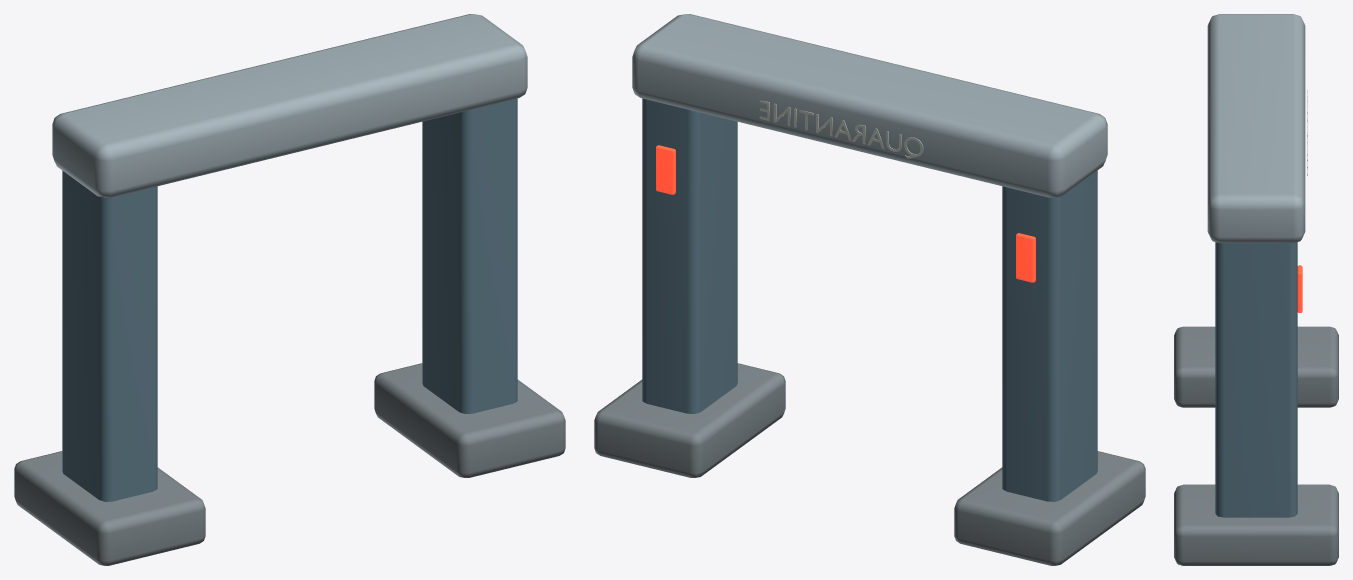
File: 32_gate_checkpoint.glb
The picture shows the model from 3 angles, left to right: view 1: azimuth 30°, elevation 25°; view 2: azimuth 150°, elevation 25°; view 3: azimuth 270°, elevation 25°; orthographic projection. The views are drawn at different scales.
Parts seen in each view (by area): view 1: Checkpoint column, Checkpoint lintel, Checkpoint foot; view 2: Checkpoint column, Checkpoint lintel, Checkpoint foot, Gate signal, Text; view 3: Checkpoint column, Checkpoint lintel, Checkpoint foot, Gate signal.
Boxes of the visible parts, <box> form: Checkpoint column: <box>62,98,517,501</box>; Checkpoint lintel: <box>52,14,527,197</box>; Checkpoint foot: <box>14,363,565,565</box>; Checkpoint column: <box>642,98,1097,501</box>; Checkpoint lintel: <box>632,14,1107,197</box>; Checkpoint foot: <box>594,363,1145,565</box>; Gate signal: <box>656,145,1035,282</box>; Text: <box>759,100,923,158</box>; Checkpoint column: <box>1215,242,1297,517</box>; Checkpoint lintel: <box>1207,14,1305,243</box>; Checkpoint foot: <box>1174,326,1338,565</box>; Gate signal: <box>1297,265,1302,312</box>.
Size of the model in its own units: 3.25 by 2.67 by 1.1.
